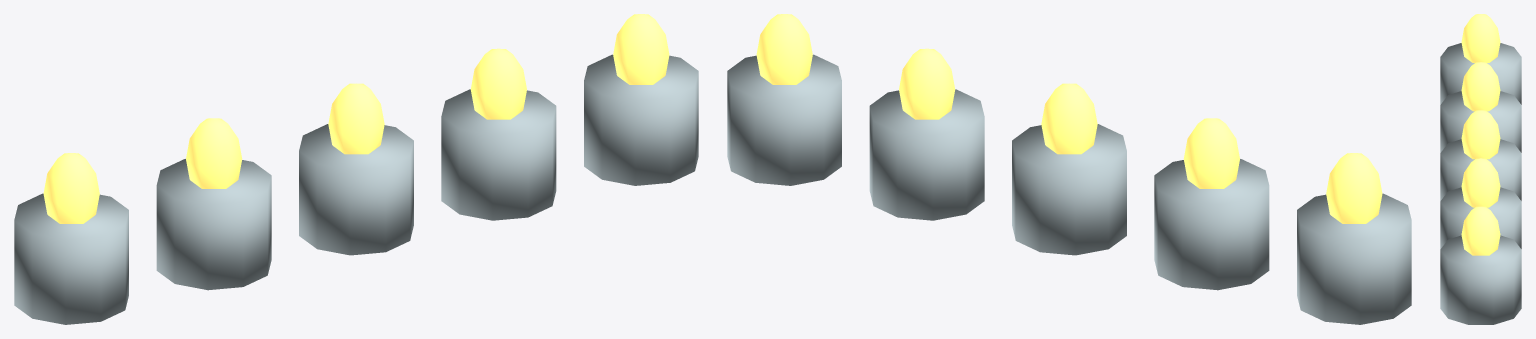
Rendered from candle_group_votive_row.glb.
3 views of the same model, side by side, from view 1: azimuth 30°, elevation 25°; view 2: azimuth 150°, elevation 25°; view 3: azimuth 270°, elevation 25° (orthographic). The views are drawn at different scales.
Parts seen in each view (by area): view 1: GD_candle_group_votive_row__m0, GD_candle_group_votive_row__m1; view 2: GD_candle_group_votive_row__m0, GD_candle_group_votive_row__m1; view 3: GD_candle_group_votive_row__m0, GD_candle_group_votive_row__m1.
Part boxes in pixels (x1=…): GD_candle_group_votive_row__m0: x1=14, y1=54, x2=698, y2=324; GD_candle_group_votive_row__m1: x1=43, y1=14, x2=669, y2=223; GD_candle_group_votive_row__m0: x1=727, y1=54, x2=1411, y2=324; GD_candle_group_votive_row__m1: x1=756, y1=14, x2=1382, y2=223; GD_candle_group_votive_row__m0: x1=1440, y1=43, x2=1521, y2=324; GD_candle_group_votive_row__m1: x1=1461, y1=14, x2=1500, y2=255.
Bounding box in the file's own units: 0.3276 × 0.0692 × 0.05.
